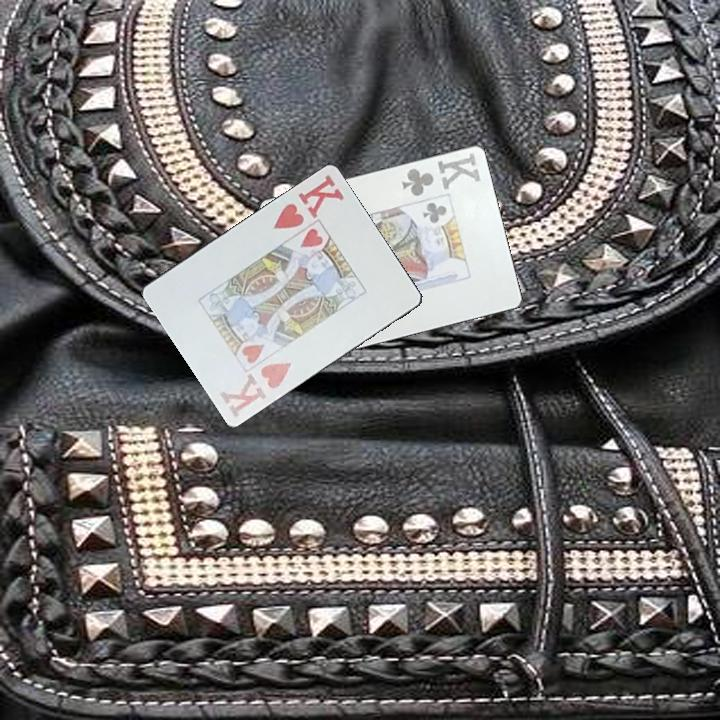Kc: (397, 150, 483, 200)
Kh: (216, 357, 295, 420), (269, 170, 348, 232)
